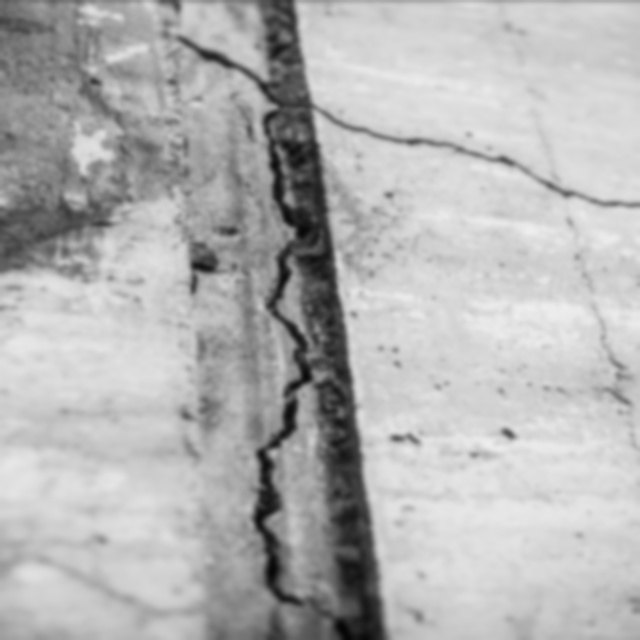SurfaceCrack: (155, 4, 363, 640), (315, 67, 640, 258)
